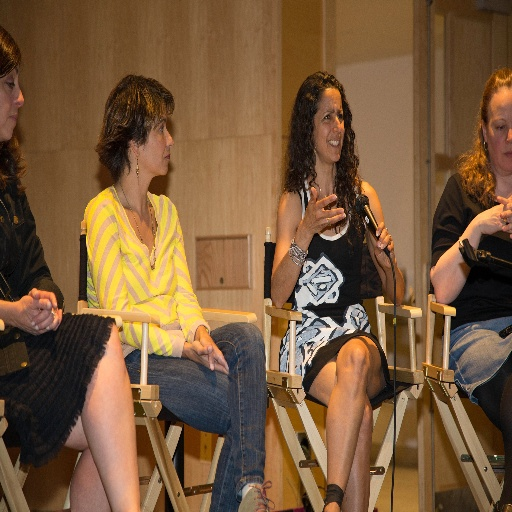hand: (303, 183, 348, 238), (9, 294, 50, 346), (187, 337, 231, 375), (475, 192, 511, 237), (30, 287, 62, 333), (195, 329, 229, 372), (369, 219, 398, 268), (495, 193, 511, 233)
